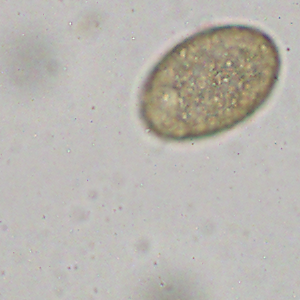Fasciola_hepatica_egg: (136, 25, 282, 141)
